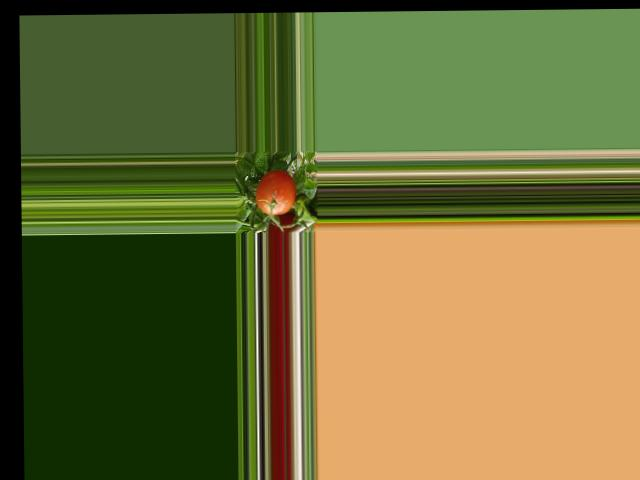tomato: (255, 171, 295, 215)
